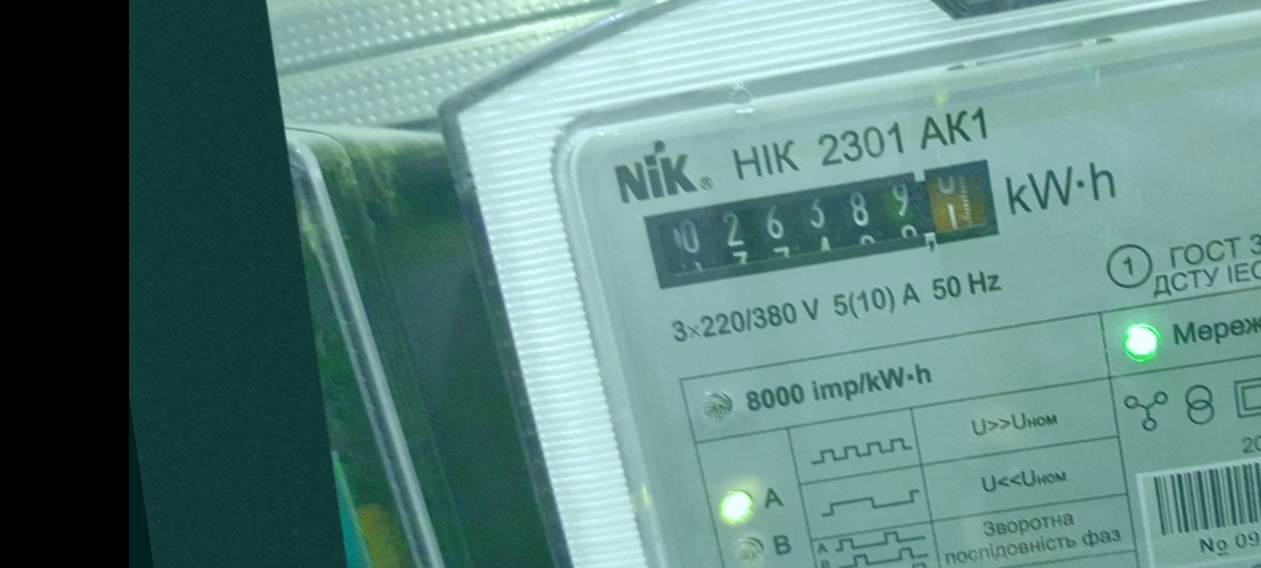0: (676, 214, 705, 256), (937, 173, 958, 196)
1: (945, 199, 962, 232)
2: (720, 207, 749, 249)
3: (806, 194, 828, 231)
6: (763, 200, 787, 242)
8: (848, 188, 874, 228)
9: (891, 181, 913, 217)
screen: (628, 145, 1018, 303)
